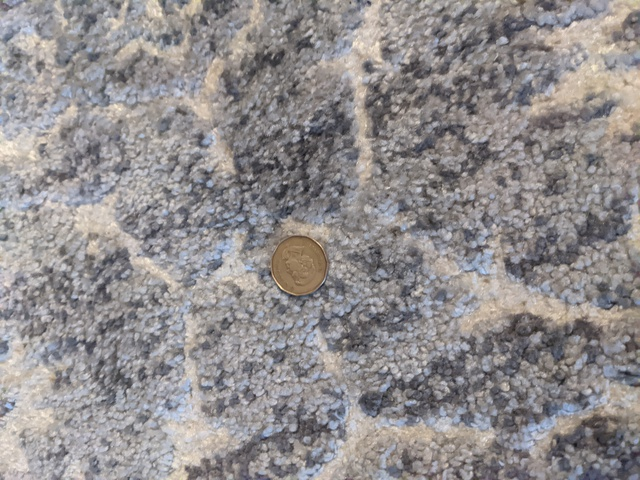loonie: (262, 234, 335, 303)
